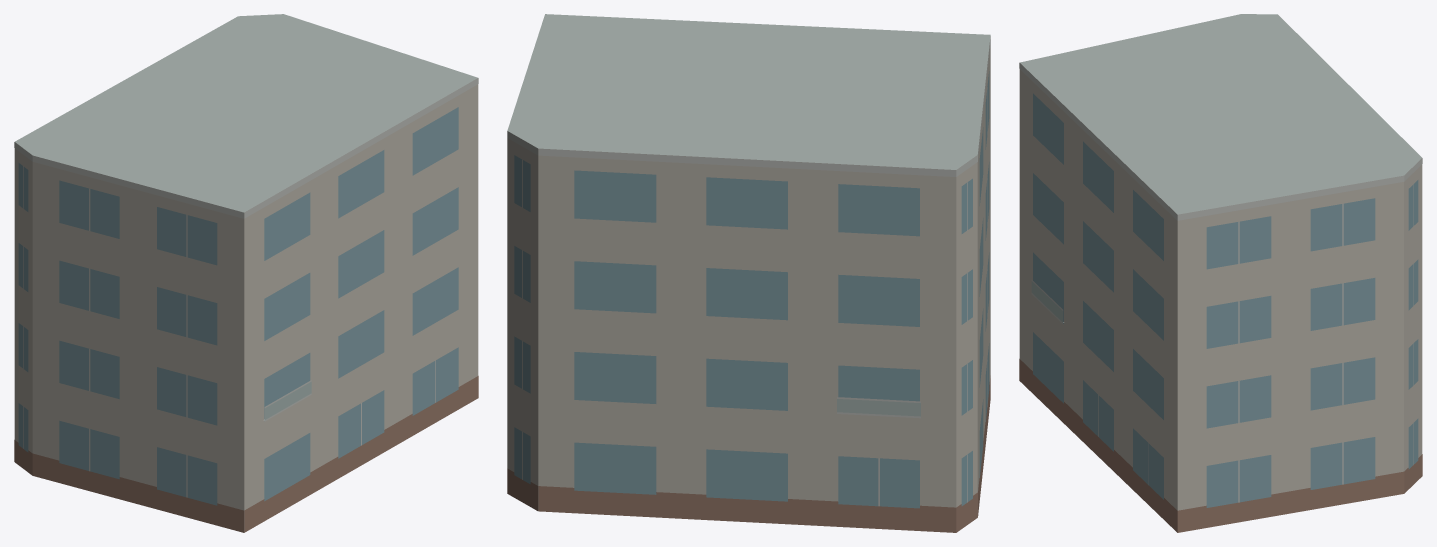
Rendered from survey-upis-33018339.glb.
The picture shows the model from 3 angles, left to right: view 1: azimuth 30°, elevation 25°; view 2: azimuth 150°, elevation 25°; view 3: azimuth 270°, elevation 25°; orthographic projection. The views are drawn at different scales.
Visible parts, largest first — view 1: survey-upis-33018339.tmp; view 2: survey-upis-33018339.tmp; view 3: survey-upis-33018339.tmp.
Boxes of the visible parts, box(x1,y1,x2,y2) form: survey-upis-33018339.tmp: box(14, 14, 478, 532); survey-upis-33018339.tmp: box(507, 14, 990, 532); survey-upis-33018339.tmp: box(1019, 14, 1422, 532).
Bounding box in the file's own units: 16.91 × 12.5 × 14.35.
